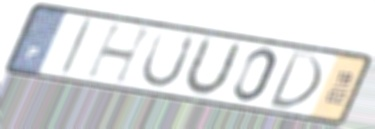0: (230, 46, 279, 103)
D: (264, 49, 324, 112)
H: (82, 22, 158, 87)
I: (56, 16, 96, 78)
U: (179, 35, 246, 98), (138, 29, 199, 90)
